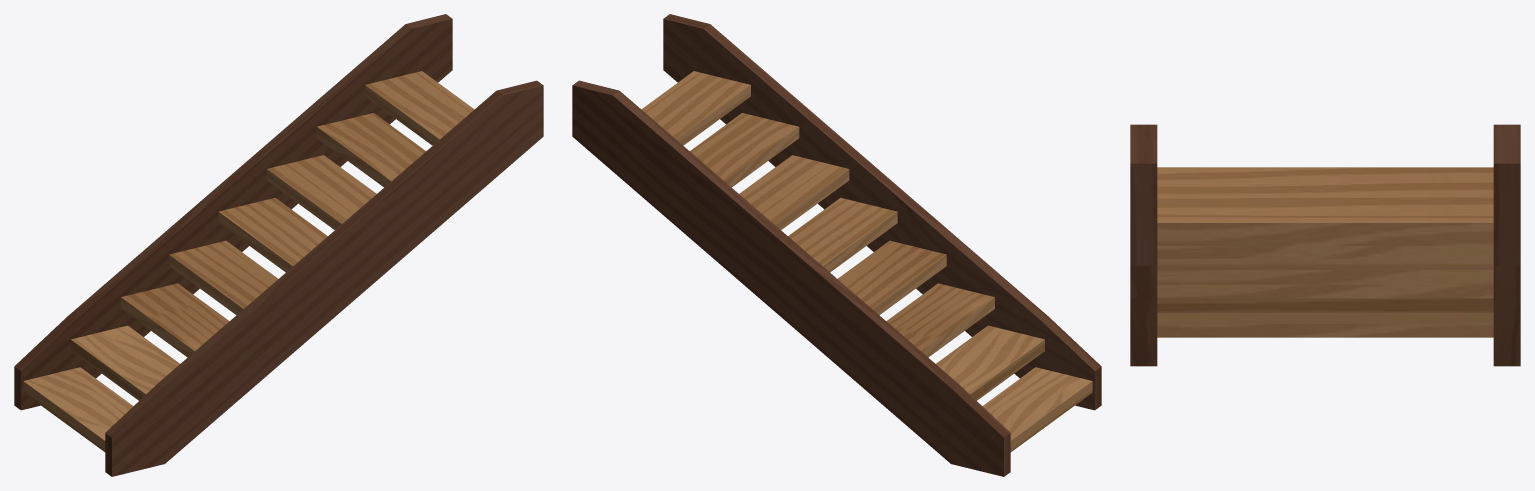
File: escalier2.fbx
3 renders of one model, left to right at view 1: azimuth 30°, elevation 25°; view 2: azimuth 150°, elevation 25°; view 3: azimuth 270°, elevation 25°, orthographic. The views are drawn at different scales.
Parts seen in each view (by area): view 1: Cube; view 2: Cube; view 3: Cube.
Boxes of the visible parts, x1,y1,x2,y2 form: Cube: (14, 14, 543, 476); Cube: (572, 14, 1101, 476); Cube: (1130, 124, 1520, 366).
Size of the model in its own units: 451 by 286 by 177.
